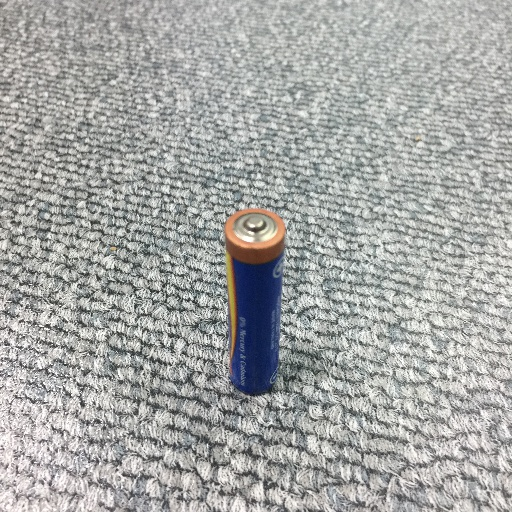Battery_0: (219, 195, 287, 400)
